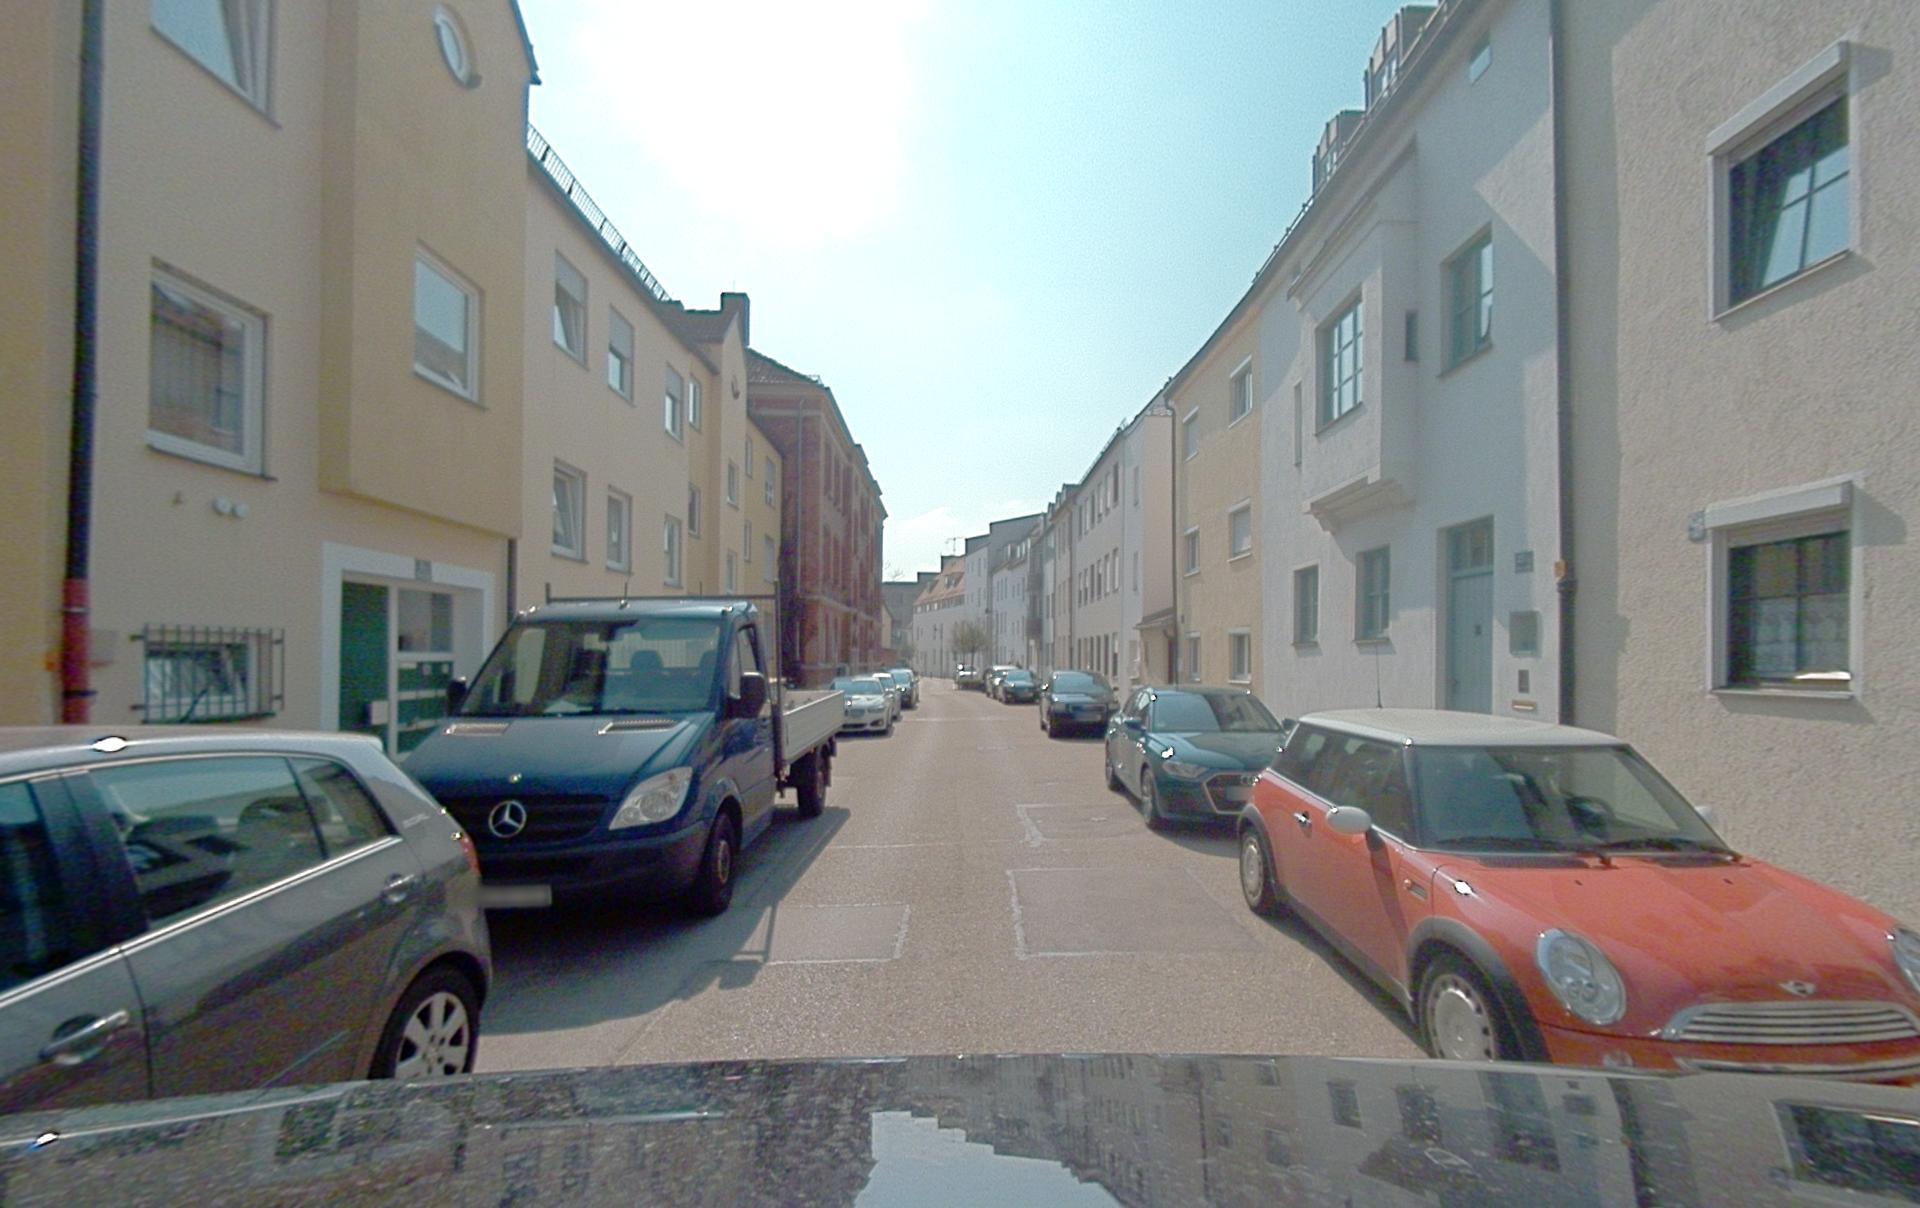car: (1237, 704, 1920, 1086), (0, 725, 493, 1112), (397, 593, 845, 917), (1105, 683, 1290, 831), (1038, 669, 1120, 738), (829, 676, 893, 736), (871, 672, 903, 721), (999, 669, 1038, 704), (889, 668, 920, 708), (985, 665, 1020, 699), (954, 667, 982, 690)
